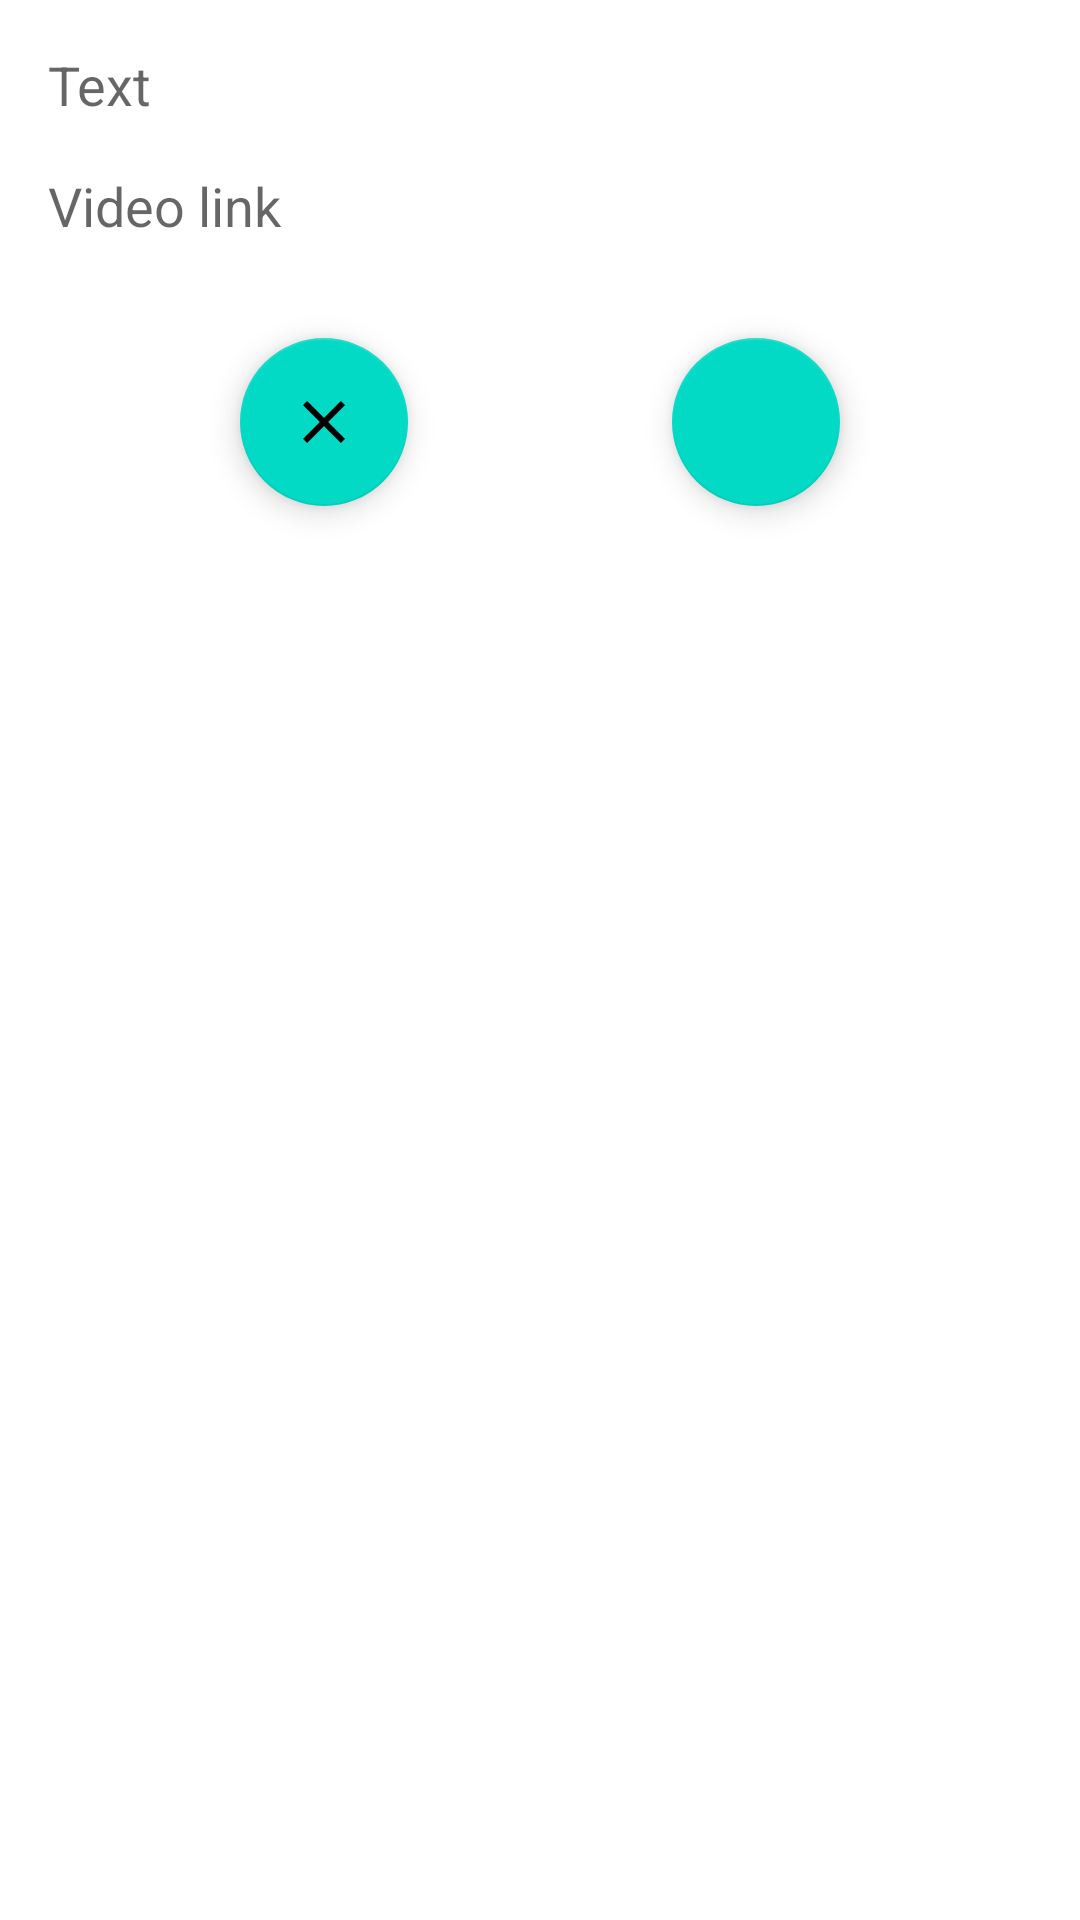

Where icons sit on this 1080px×1920px app screen, as (x1, y1, x2, y2):
edit close: (240, 338, 408, 506)
